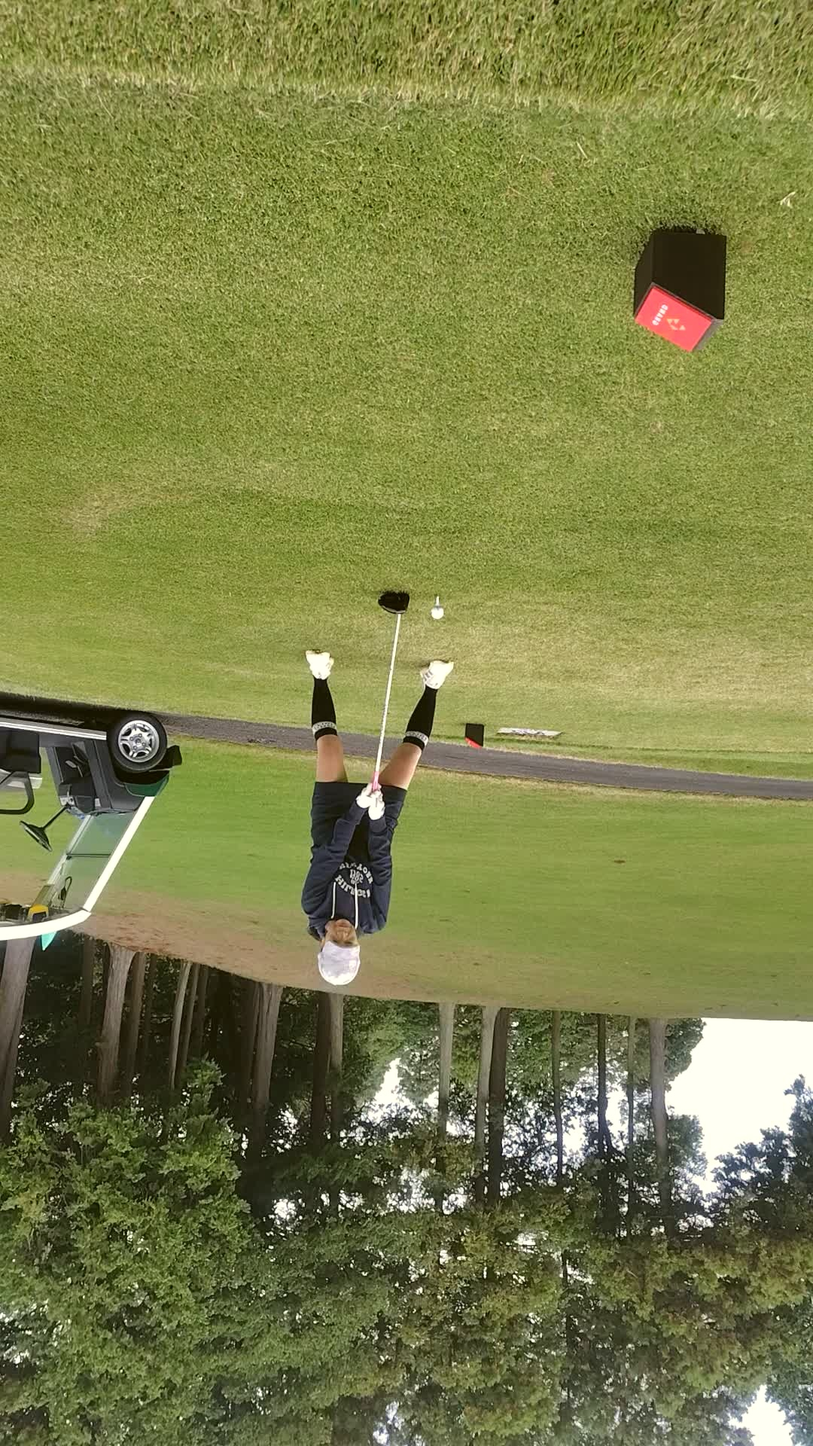clubhead: (318, 495, 541, 662)
